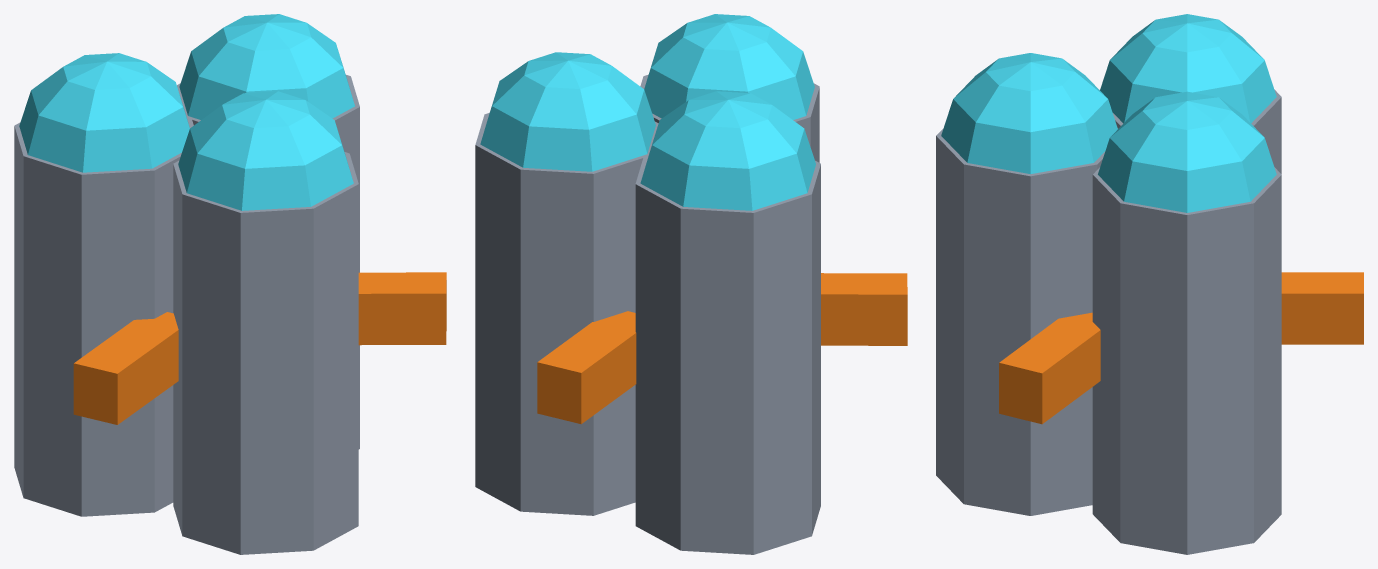
File: env_r9_oxygen_tank_cluster.glb
The picture shows the model from 3 angles, left to right: view 1: azimuth 30°, elevation 25°; view 2: azimuth 150°, elevation 25°; view 3: azimuth 270°, elevation 25°; orthographic projection.
Parts seen in each view (by area): view 1: env_r9_oxygen_tank_cluster; view 2: env_r9_oxygen_tank_cluster; view 3: env_r9_oxygen_tank_cluster.
Part boxes in pixels (x1=…): env_r9_oxygen_tank_cluster: x1=14, y1=14, x2=446, y2=554; env_r9_oxygen_tank_cluster: x1=475, y1=14, x2=907, y2=554; env_r9_oxygen_tank_cluster: x1=936, y1=14, x2=1363, y2=554.
Bounding box in the file's own units: 1.5 × 1.6 × 1.5.
Materials: 1 (1 with a texture image).
